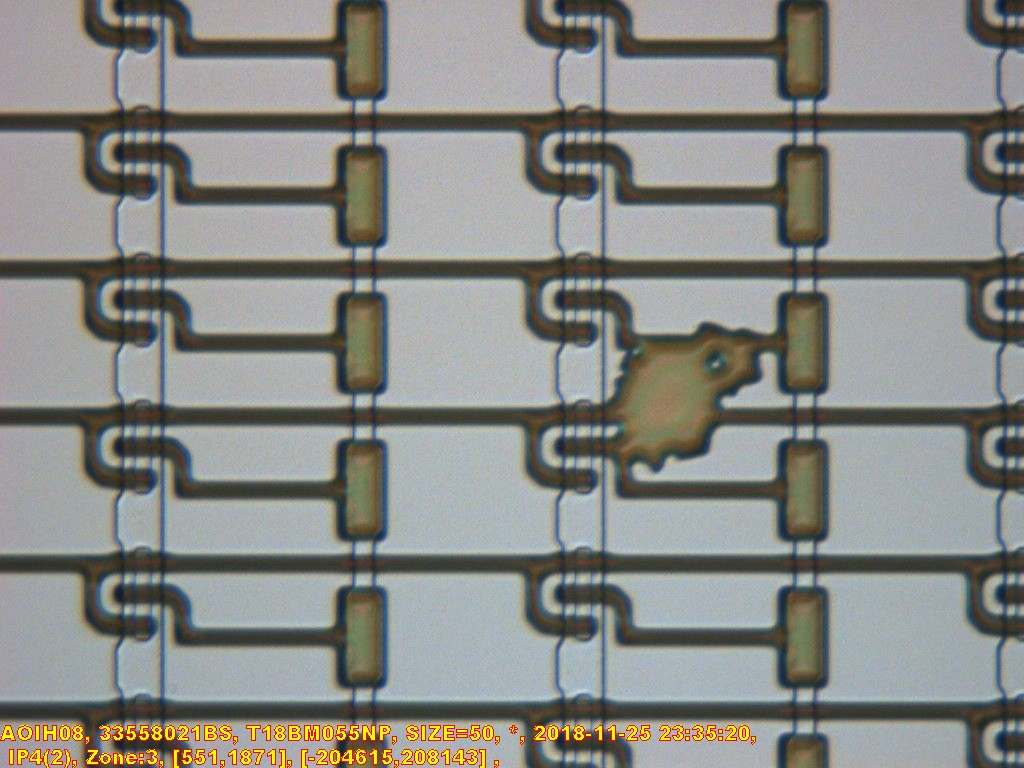PP02-C: (609, 323, 762, 474)
